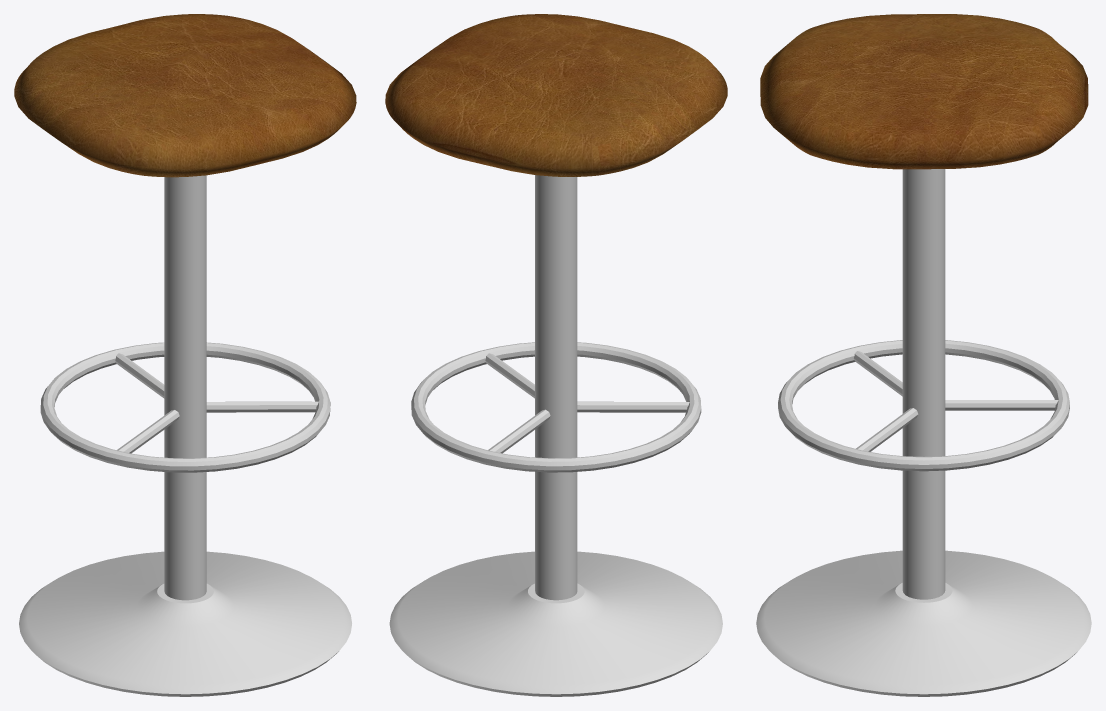
File: taburete_giratorio_75.glb
The picture shows the model from 3 angles, left to right: view 1: azimuth 30°, elevation 25°; view 2: azimuth 150°, elevation 25°; view 3: azimuth 270°, elevation 25°; orthographic projection.
Parts seen in each view (by area): view 1: taburete_giratorio_75; view 2: taburete_giratorio_75; view 3: taburete_giratorio_75.
Part boxes in pixels (x1,y1,x2,y2): taburete_giratorio_75: (14, 14, 356, 696); taburete_giratorio_75: (385, 14, 727, 696); taburete_giratorio_75: (756, 14, 1091, 696).
Bounding box in the file's own units: 0.41 × 0.772 × 0.41.
2 materials, 1 textured.
